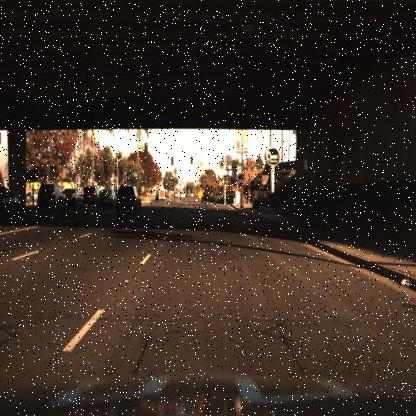car: (112, 182, 143, 219), (34, 182, 68, 212), (0, 185, 21, 221), (61, 186, 85, 210), (97, 186, 116, 210), (81, 184, 100, 205), (80, 184, 97, 204), (150, 186, 167, 202)
trafficLight-Green: (235, 163, 240, 181)
